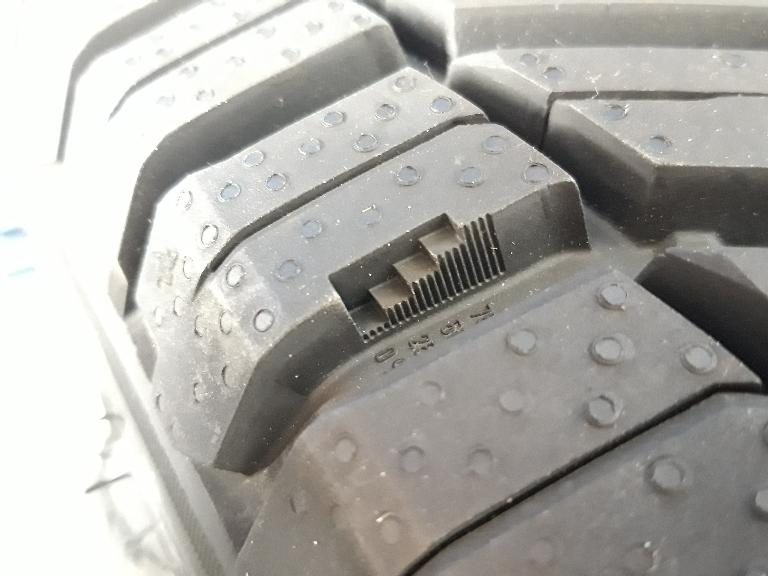temoin:100: (320, 198, 515, 353)
